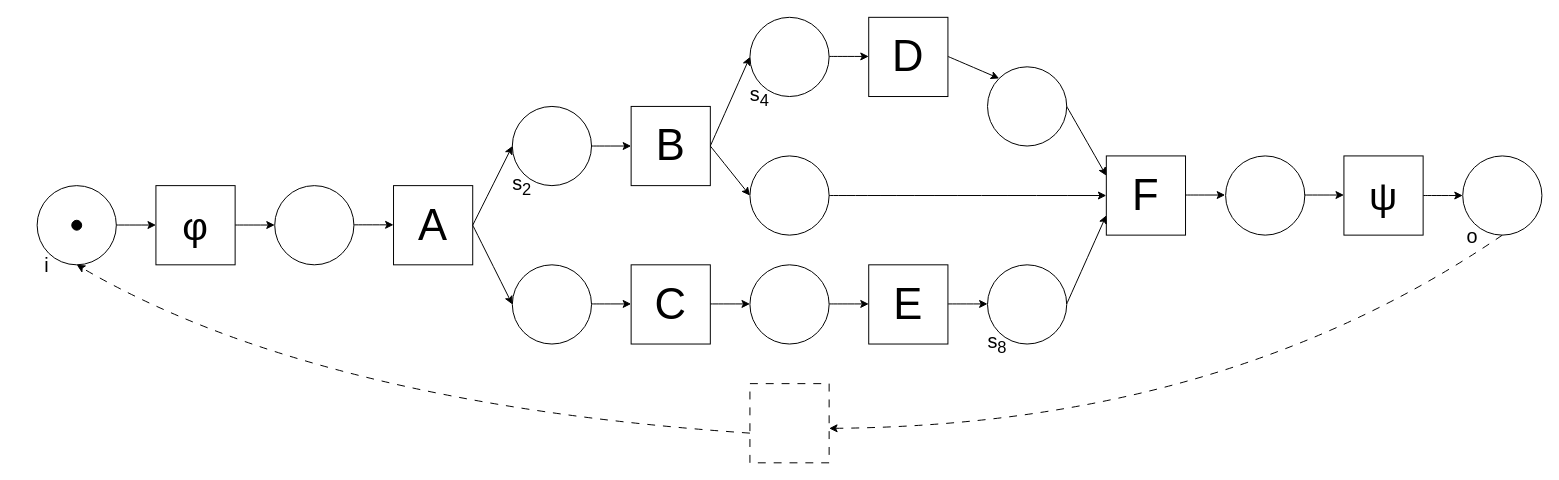
This 1559x480 diagram has some shape labels left out. Each missing label, with the centre of its shape:
s 1: the point at 314,225
s 3: the point at 551,304
s 5: the point at 789,195
s 6: the point at 789,304
s 7: the point at 1027,106
s 9: the point at 1265,195
t*: the point at 789,423
